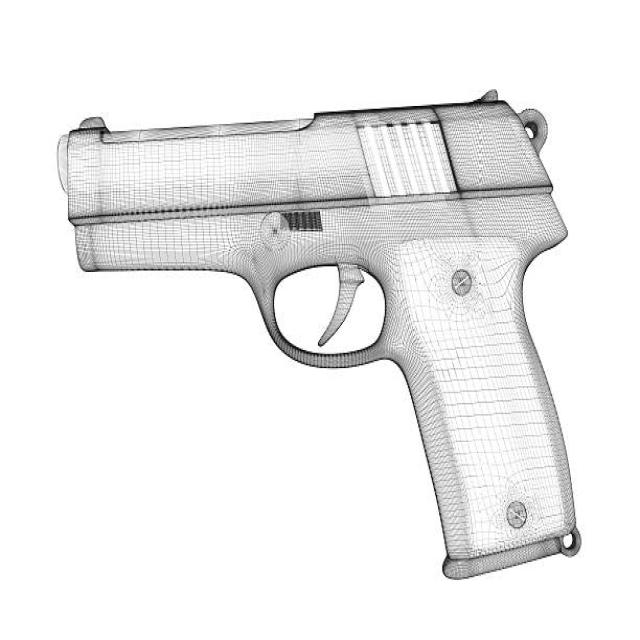pistol: (50, 80, 588, 586)
